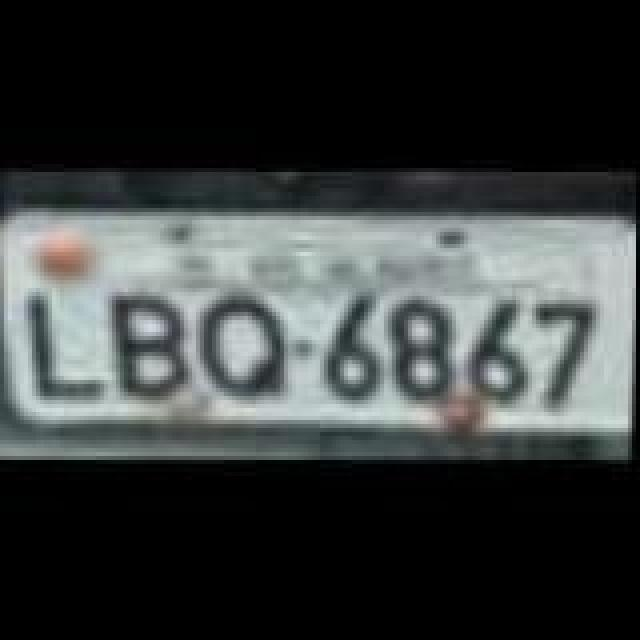6: (320, 290, 392, 406), (464, 298, 536, 410)
7: (528, 304, 600, 420)
8: (388, 304, 460, 408)
B: (108, 294, 196, 406)
L: (22, 298, 114, 406)
Q: (196, 296, 292, 404)
